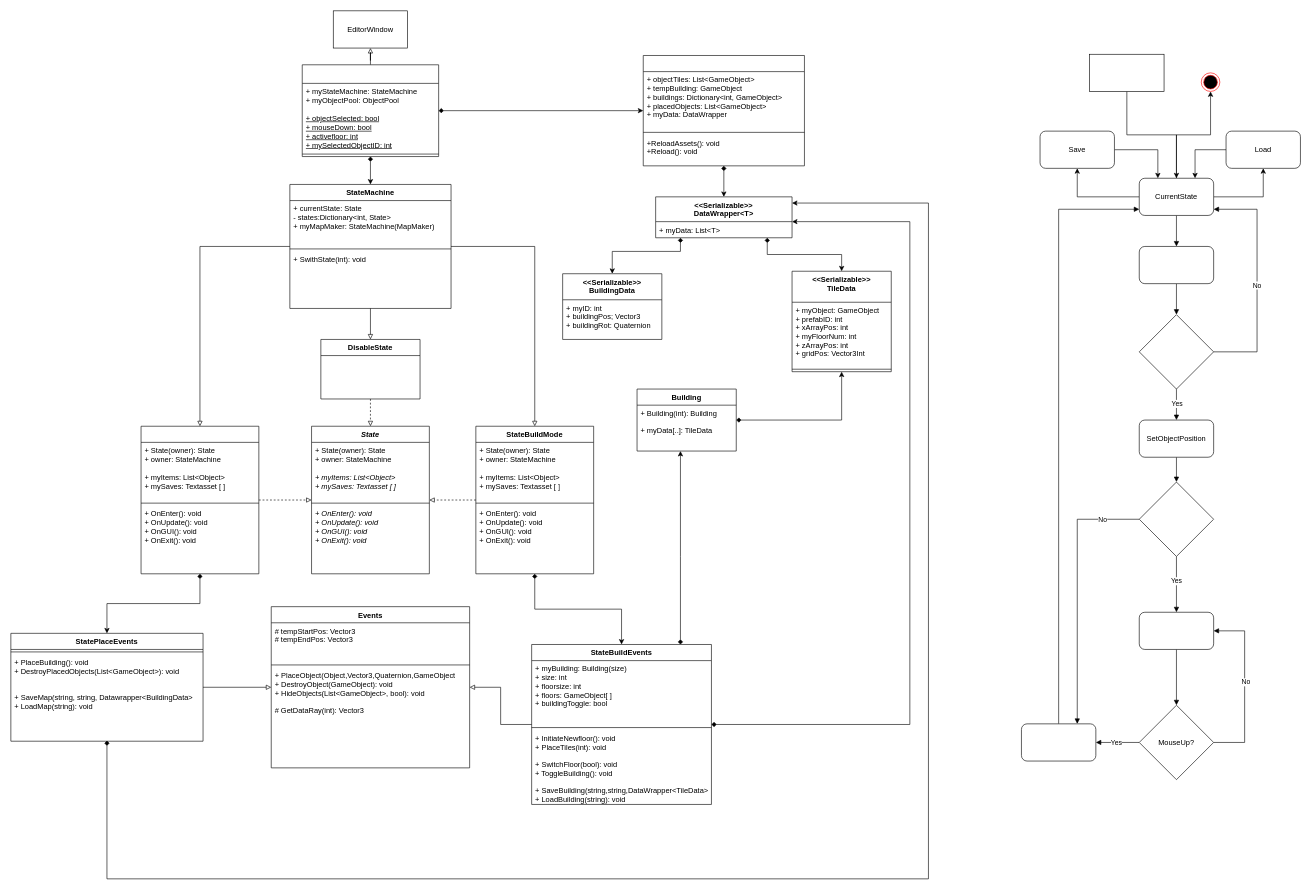
Some shapes in this 1311 by 895 pixel diagram are drawn without their labels. Here are the shapes that lost their labels. From the top down, the box of each, then its label:
(1089, 54, 1164, 91): Open Mapmaker
(302, 64, 439, 157): MapMaker
(643, 55, 804, 166): ObjectPool
(1139, 246, 1214, 284): MouseClick in scene
(1139, 314, 1214, 389): ObjectSelected?
(140, 426, 259, 574): StatePlaceMode
(1139, 481, 1214, 556): MouseDrag?
(1139, 612, 1214, 649): Set ObjectRotation to mouse position
(1021, 723, 1096, 761): PlaceObject
